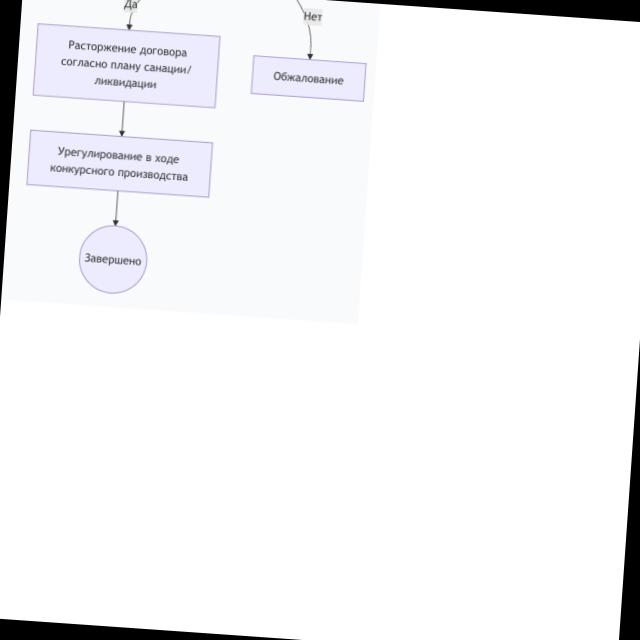arrow: (110, 191, 123, 225), (116, 100, 128, 136)
circle: (79, 225, 146, 293)
rectangle: (34, 24, 219, 107), (27, 130, 212, 196), (251, 55, 366, 101)
text_region: (301, 9, 323, 23), (122, 0, 138, 12)
